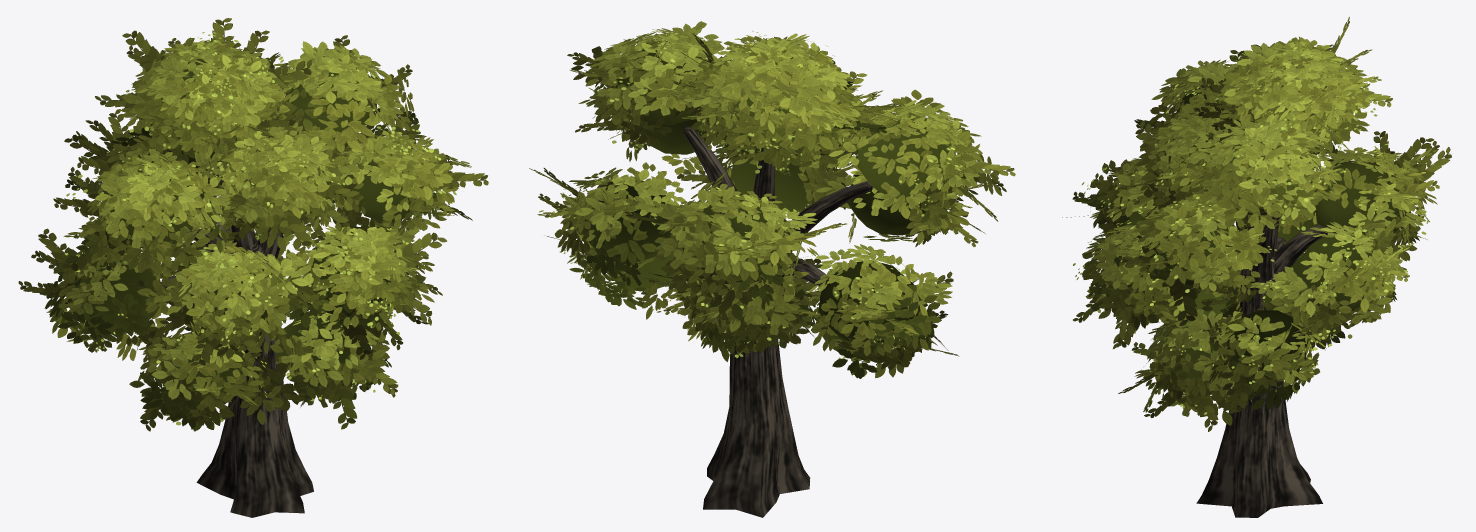
Rendered from CreTree05.glb.
The picture shows the model from 3 angles, left to right: view 1: azimuth 30°, elevation 25°; view 2: azimuth 150°, elevation 25°; view 3: azimuth 270°, elevation 25°; orthographic projection. The views are drawn at different scales.
Visible parts, largest first — view 1: CreTree05_leaves; view 2: CreTree05_leaves; view 3: CreTree05_leaves.
Part boxes in pixels (x1,y1,x2,y2): CreTree05_leaves: [18, 18, 488, 517]; CreTree05_leaves: [529, 21, 1015, 517]; CreTree05_leaves: [1062, 17, 1451, 517].
Bounding box in the file's own units: 8.4 × 8.74 × 7.28.
Materials: 3 (2 with a texture image).
